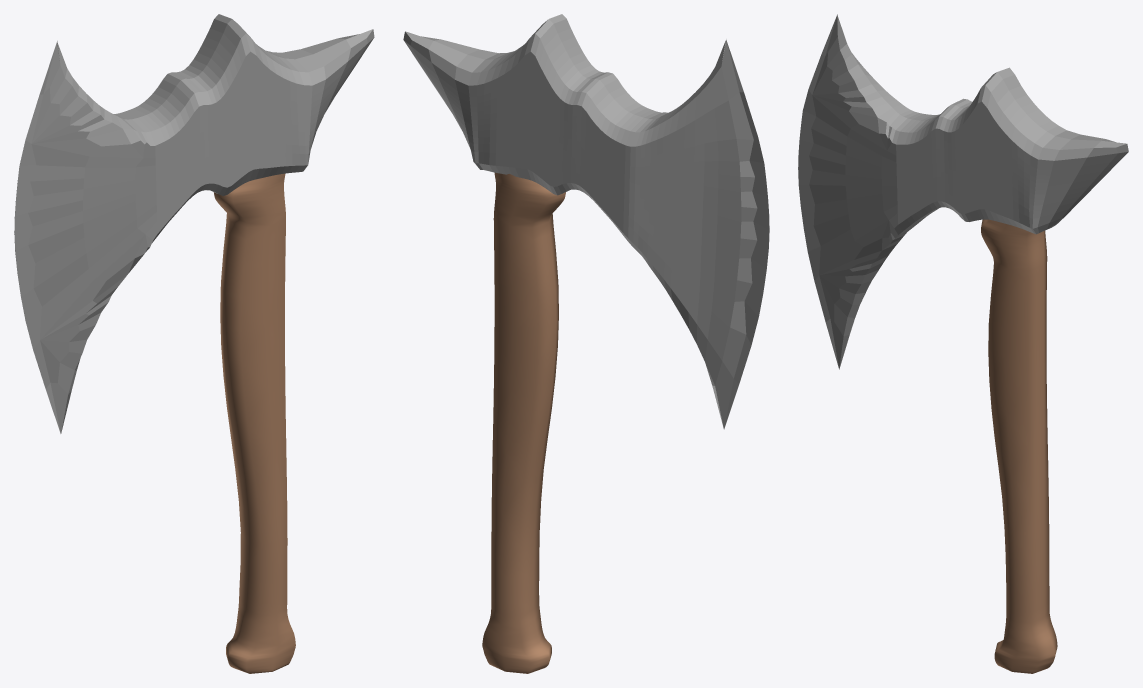
File: axe.dae
3 renders of one model, left to right at view 1: azimuth 30°, elevation 25°; view 2: azimuth 150°, elevation 25°; view 3: azimuth 330°, elevation 25°, orthographic. The views are drawn at different scales.
Parts seen in each view (by area): view 1: Cube_001; view 2: Cube_001; view 3: Cube_001.
Part boxes in pixels (x1,y1,x2,y2): Cube_001: (14, 14, 374, 673); Cube_001: (403, 14, 769, 673); Cube_001: (798, 14, 1128, 673).
Bounding box in the file's own units: 1.5 × 0.265 × 2.66.
